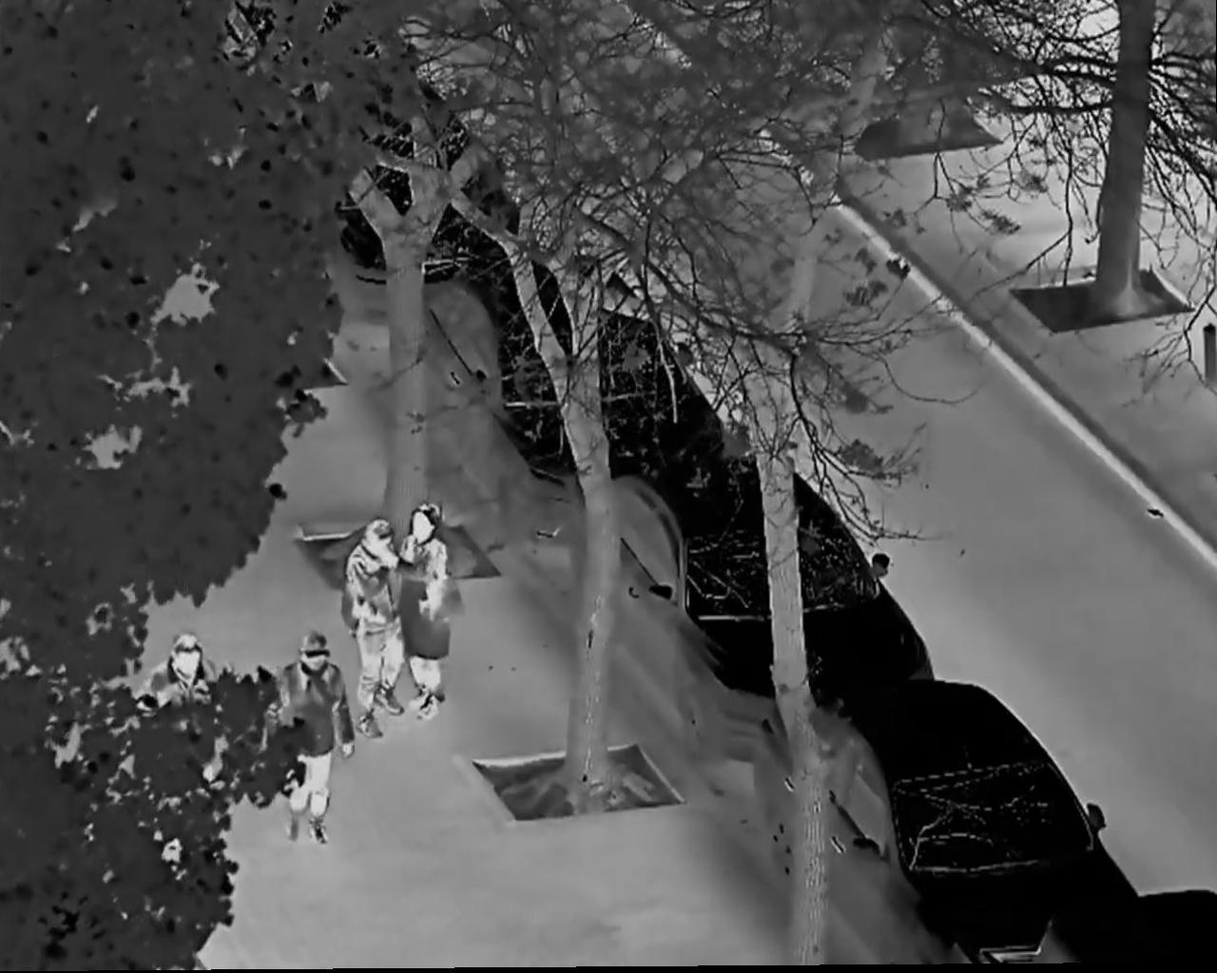person: (275, 631, 355, 843), (340, 517, 406, 744), (150, 638, 221, 835), (396, 501, 458, 725)
